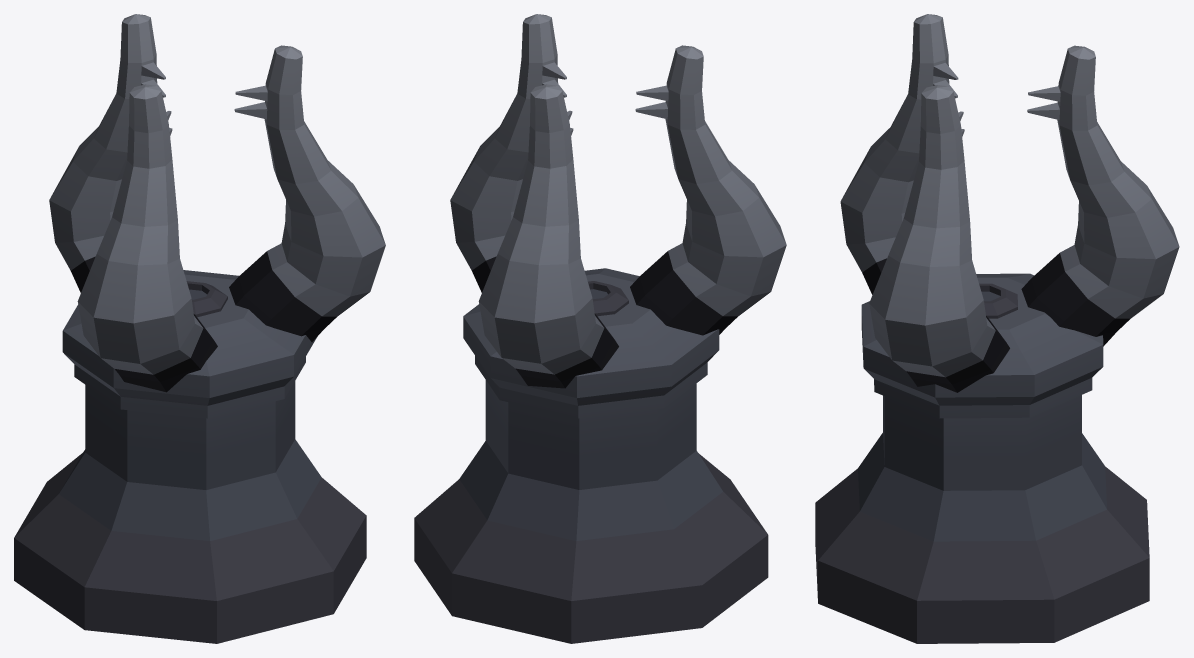
Rendered from turret_classique1.fbx.
The picture shows the model from 3 angles, left to right: view 1: azimuth 30°, elevation 25°; view 2: azimuth 150°, elevation 25°; view 3: azimuth 270°, elevation 25°; orthographic projection.
Visible parts, largest first — view 1: Tour1_finale_1; view 2: Tour1_finale_1; view 3: Tour1_finale_1.
Boxes of the visible parts, x1,y1,x2,y2 form: Tour1_finale_1: (14, 14, 385, 643); Tour1_finale_1: (414, 14, 786, 643); Tour1_finale_1: (815, 14, 1179, 643).
Bounding box in the file's own units: 324 × 524 × 330.
